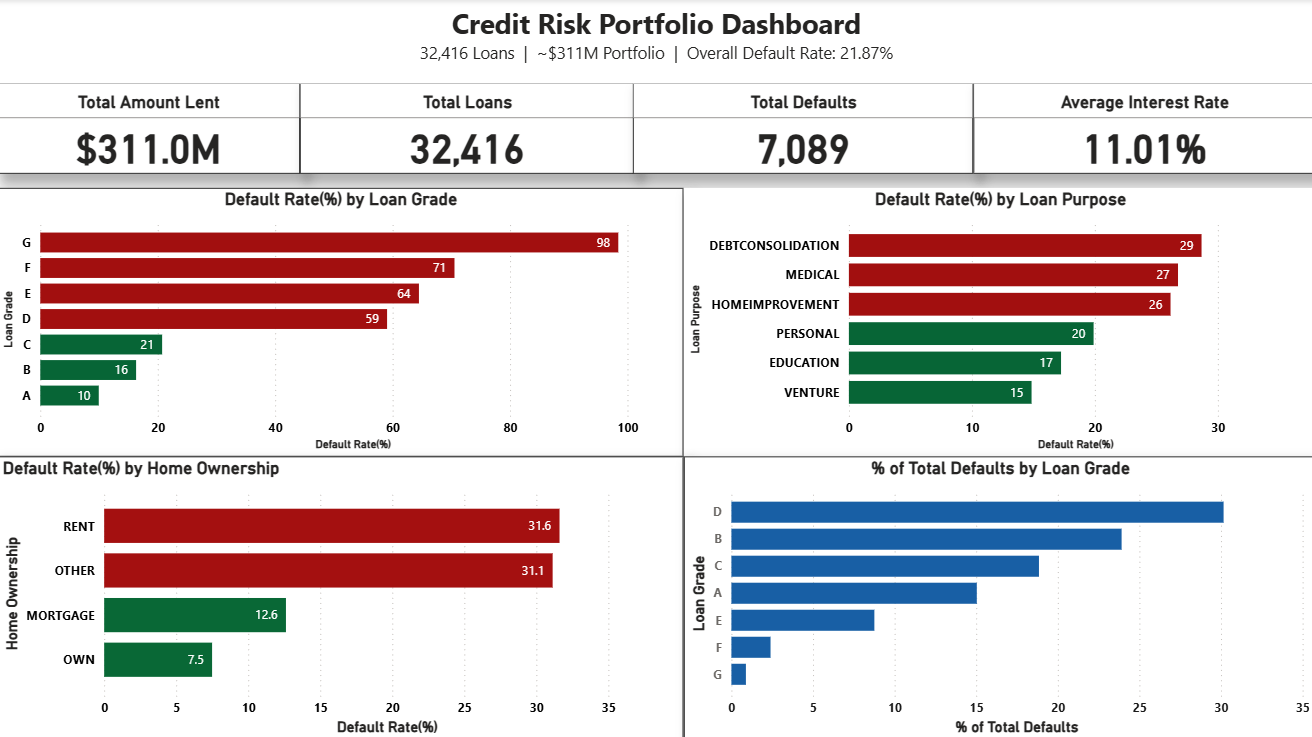

This screenshot's page, from the dashboard's own definition file:
{"tool":"powerbi","page":{"name":"Page 1","canvas":[1280,720],"ordinal":0},"visuals":[{"type":"card","title":"Total Amount Lent","fields":{"Values":["credit_risk.Total Amount Lent $"]},"box":[0,81.8,293.8,87.8],"z":0},{"type":"card","title":"Total Loans","fields":{"Values":["CountNonNull(credit_risk.loan_status)"]},"box":[293.8,81.8,324,87.8],"z":1000},{"type":"card","title":"Total Defaults","fields":{"Values":["credit_risk.Total Defaults"]},"box":[617.8,81.8,330.1,87.8],"z":2000},{"type":"card","title":"Average Interest Rate","fields":{"Values":["credit_risk.Avg Interest Rate"]},"box":[947.9,81.8,331.6,87.8],"z":3000},{"type":"barChart","fields":{"Category":["credit_risk.loan_grade"],"Y":["credit_risk.Default Rate"]},"box":[0,183.2,666.3,260.4],"z":4000},{"type":"clusteredBarChart","fields":{"Y":["credit_risk.Default Rate"],"Category":["credit_risk.loan_intent"]},"box":[666.3,183.2,613.3,260.4],"z":5000},{"type":"clusteredBarChart","fields":{"Y":["credit_risk.Default Rate"],"Category":["credit_risk.person_home_ownership"]},"box":[0,443.7,666.3,275.6],"z":6000},{"type":"clusteredBarChart","fields":{"Y":["credit_risk.% of Total Defaults"],"Category":["credit_risk.loan_grade"]},"box":[666.3,443.7,613.3,275.6],"z":7000},{"type":"textbox","box":[0,0,1279.5,81.8],"z":8001}]}

Visuals, with their boxes in screenshot pixels (x1, y1, x2, y2), scaled from the page's 1280x720 canvas onto the 1312x737 screenshot:
"Total Amount Lent" card: (0, 84, 301, 174)
"Total Loans" card: (301, 84, 633, 174)
"Total Defaults" card: (633, 84, 972, 174)
"Average Interest Rate" card: (972, 84, 1311, 174)
barChart - credit_risk.loan_grade x credit_risk.Default Rate: (0, 188, 683, 454)
clusteredBarChart - credit_risk.Default Rate x credit_risk.loan_intent: (683, 188, 1311, 454)
clusteredBarChart - credit_risk.Default Rate x credit_risk.person_home_ownership: (0, 454, 683, 736)
clusteredBarChart - credit_risk.% of Total Defaults x credit_risk.loan_grade: (683, 454, 1311, 736)
textbox: (0, 0, 1311, 84)
